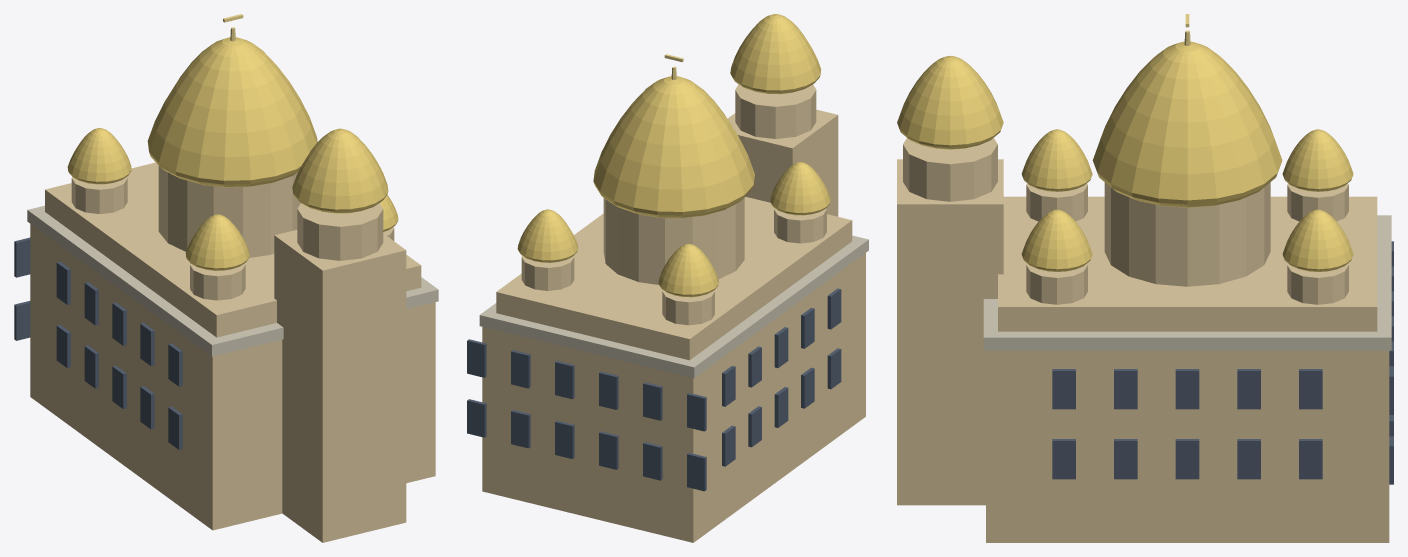
File: cathedral.glb
3 renders of one model, left to right at view 1: azimuth 30°, elevation 25°; view 2: azimuth 150°, elevation 25°; view 3: azimuth 270°, elevation 25°, orthographic. The views are drawn at different scales.
Visible parts, largest first — view 1: nave, belltower, dome_c, attic, drum, cornice, bell_dome, bell_drum, dome_s.001, dome_s.003, drum_s.001, drum_s.003 (+12 smaller); view 2: nave, attic, dome_c, drum, cornice, bell_dome, belltower, bell_drum, dome_s.003, dome_s, dome_s.001, drum_s (+24 smaller); view 3: nave, belltower, attic, dome_c, drum, cornice, bell_dome, bell_drum, dome_s.002, dome_s.003, dome_s, dome_s.001 (+14 smaller).
Boxes of the visible parts, x1,y1,x2,y2 form: nave: (30, 224, 435, 530); belltower: (274, 230, 406, 542); dome_c: (147, 37, 317, 187); attic: (45, 162, 421, 337); drum: (158, 166, 300, 257); cornice: (27, 205, 438, 356); bell_dome: (292, 128, 388, 213); bell_drum: (297, 203, 383, 260); dome_s.001: (67, 128, 131, 184); dome_s.003: (185, 214, 249, 270); drum_s.001: (71, 177, 127, 213); drum_s.003: (190, 263, 245, 300); nave: (482, 253, 865, 542); attic: (496, 196, 852, 360); dome_c: (593, 76, 754, 218); drum: (603, 198, 744, 284); cornice: (479, 235, 868, 378); bell_dome: (730, 14, 821, 94); belltower: (727, 109, 838, 216); bell_drum: (735, 84, 816, 138); dome_s.003: (770, 162, 830, 215); dome_s: (517, 209, 578, 262); dome_s.001: (658, 243, 718, 297); drum_s: (521, 256, 574, 290); nave: (986, 350, 1389, 542); belltower: (897, 159, 1003, 505); attic: (998, 196, 1377, 331); dome_c: (1092, 41, 1282, 207); drum: (1104, 182, 1270, 286); cornice: (983, 215, 1391, 350); bell_dome: (897, 55, 1003, 149); bell_drum: (903, 138, 997, 201); dome_s.002: (1021, 209, 1092, 271); dome_s.003: (1021, 129, 1092, 191); dome_s: (1282, 209, 1353, 271); dome_s.001: (1282, 129, 1353, 191).
Size of the model in its own units: 27 by 43.15 by 41.9.
